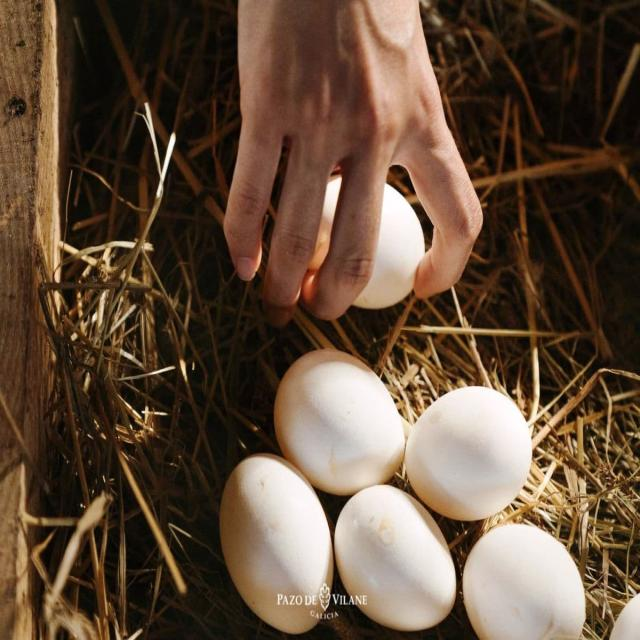huevos: (215, 444, 336, 634), (407, 373, 531, 530)
